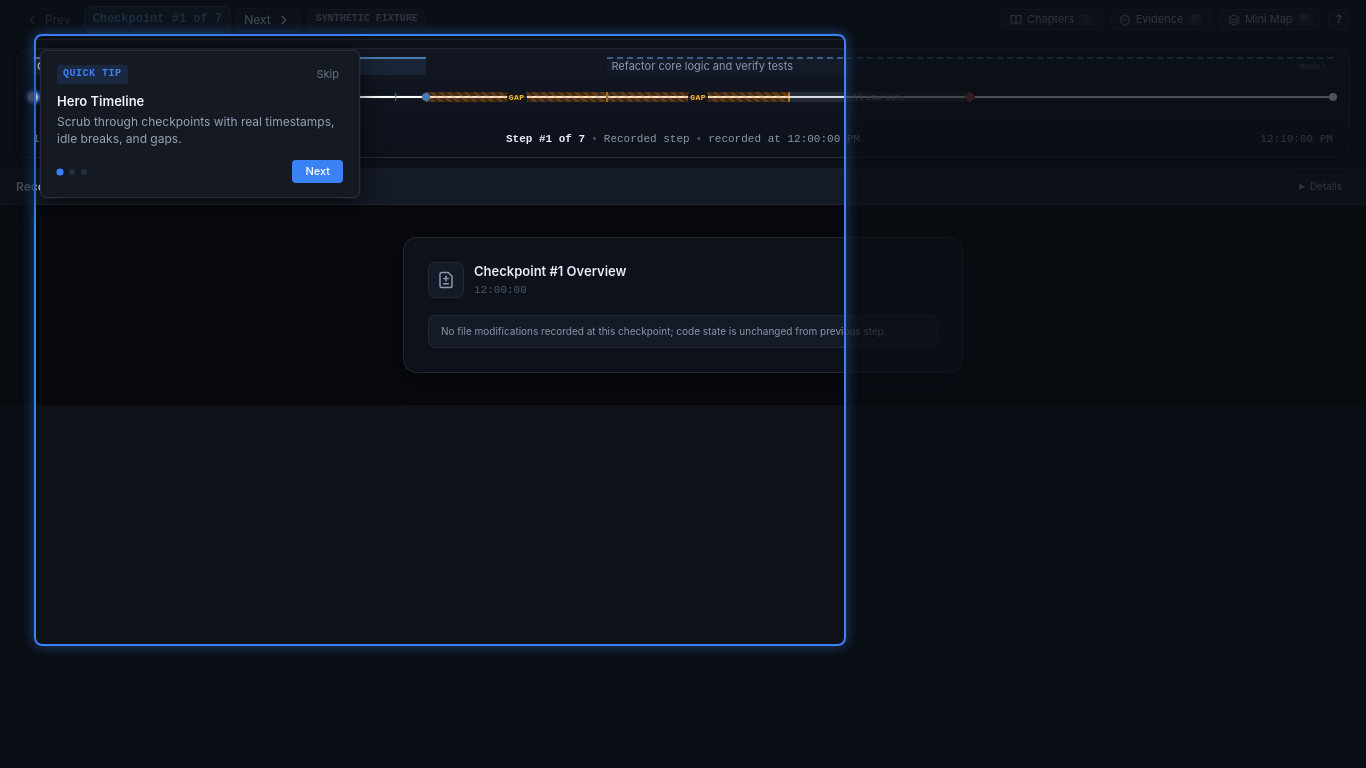
First-Use Tips System › Integration Across Screens › ReplayWorkspace shows tips on first visit and replays via "?" button
Expected: the button with test id "replay-help-tips-btn" is shown, [1328,9,1350,31]
Step 1. Click the button with test id "tip-skip-btn" → {"x": 328, "y": 74}, box [312,66,343,83]
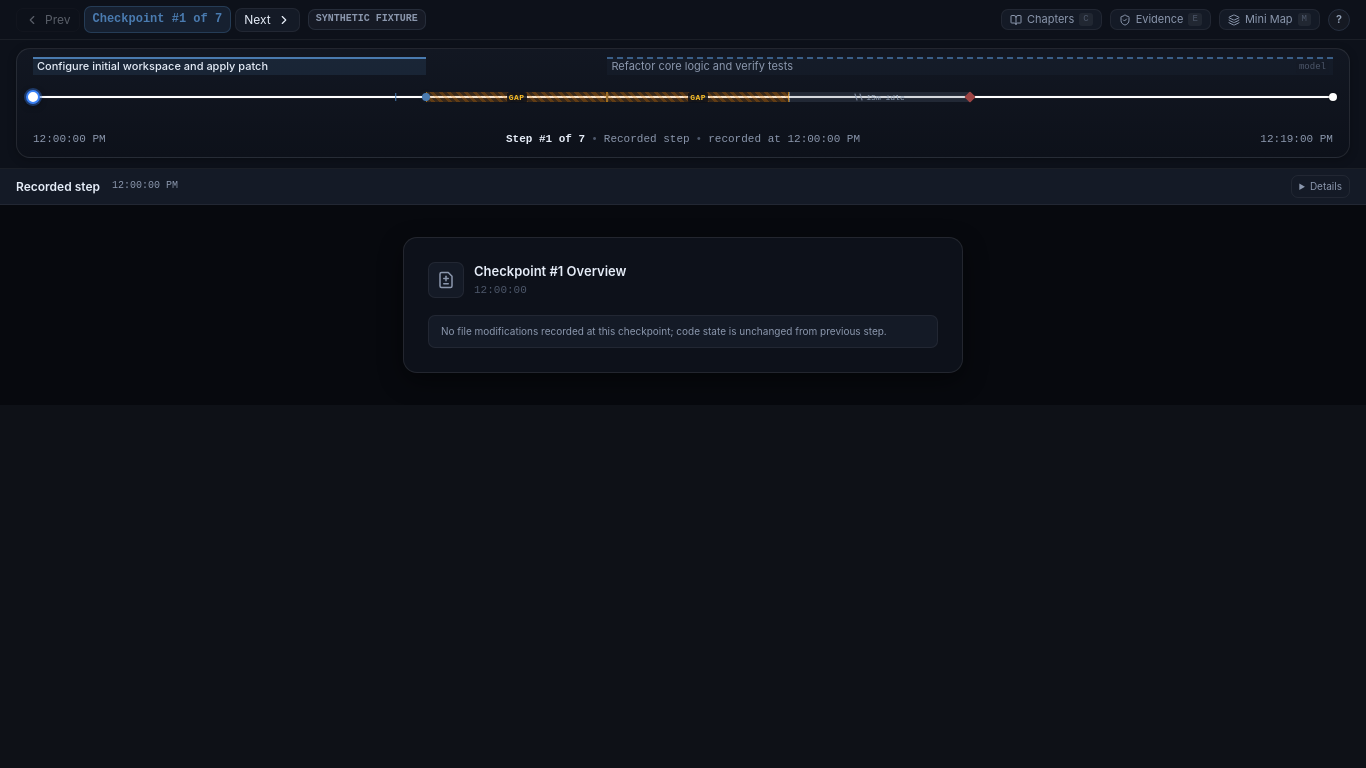
Expected: the element with test id "first-use-tip-overlay" is gone
Note: Replay via "?" button in header tools
Step 2. Click the button with test id "replay-help-tips-btn" → {"x": 1339, "y": 20}, box [1328,9,1350,31]
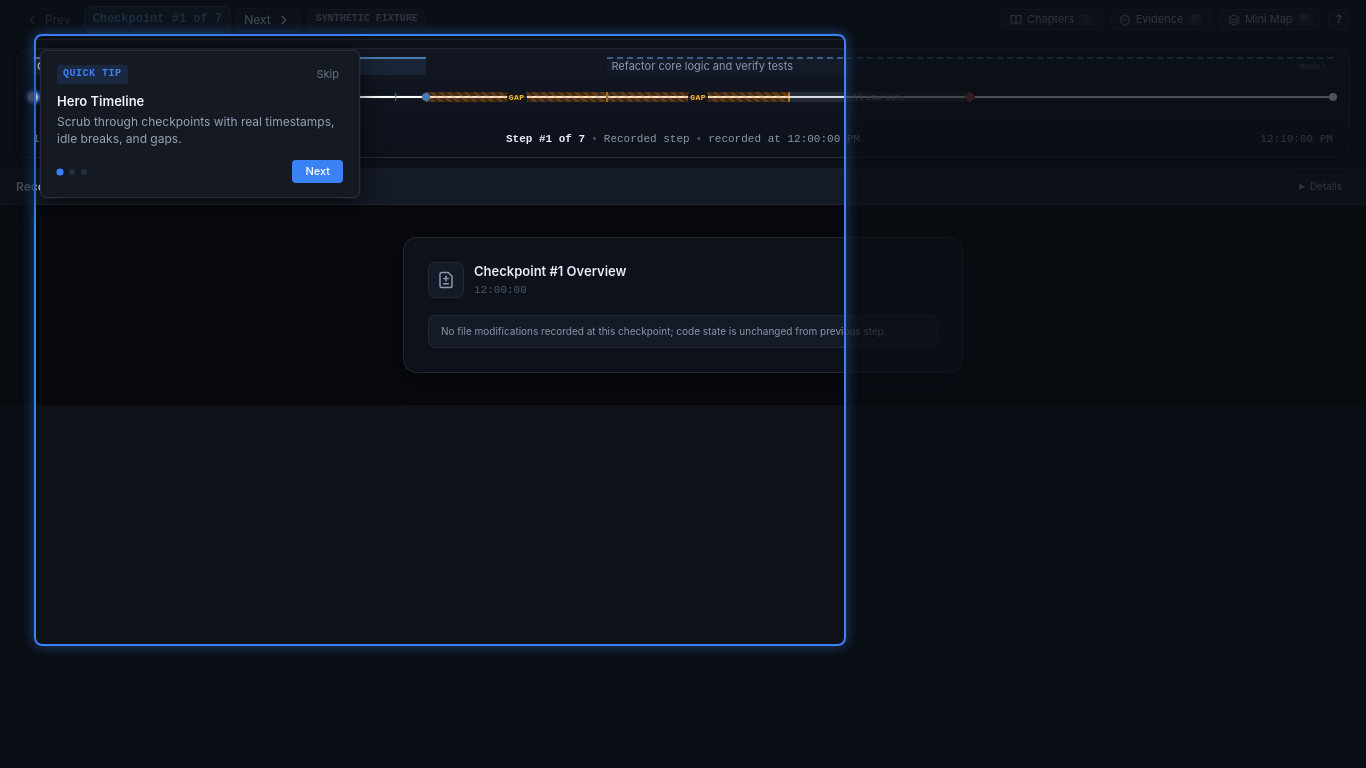
Expected: the element with test id "first-use-tip-overlay" is shown
